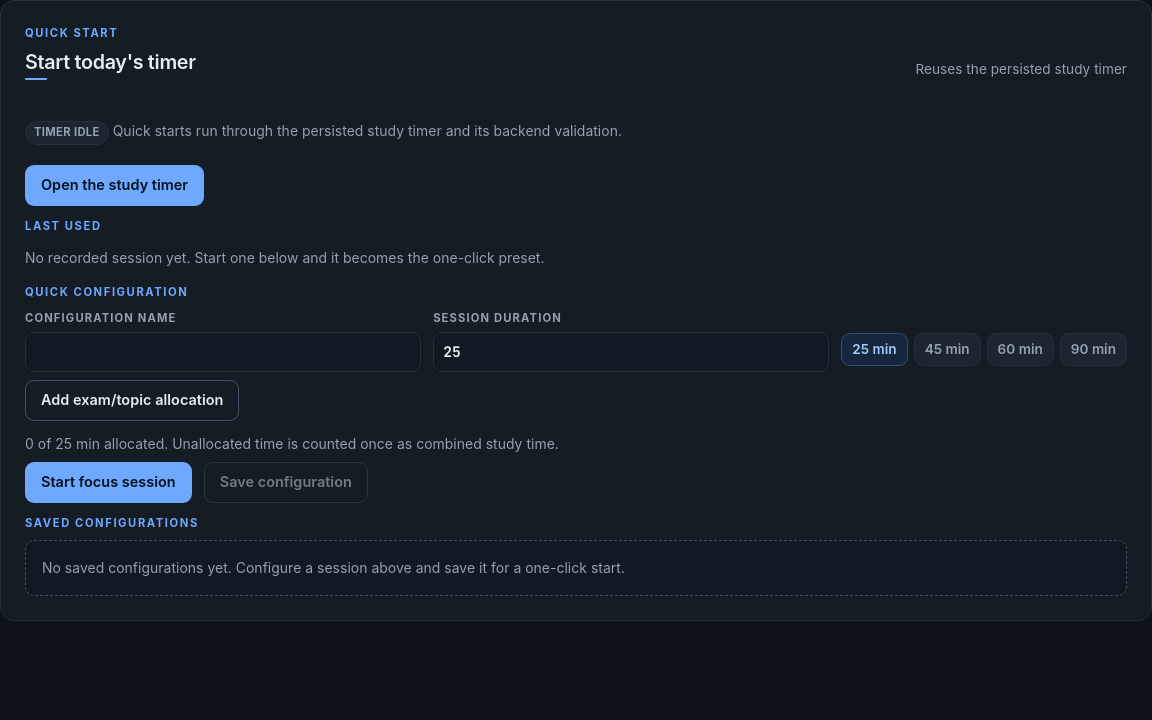
Test: QuickStartSection › rejects invalid builder allocations before any backend command runs
Check: the text "Timer idle" is shown, box [25,121,109,145]
Click the button "Add exam/topic allocation": click(132, 400) [25,380,239,421]
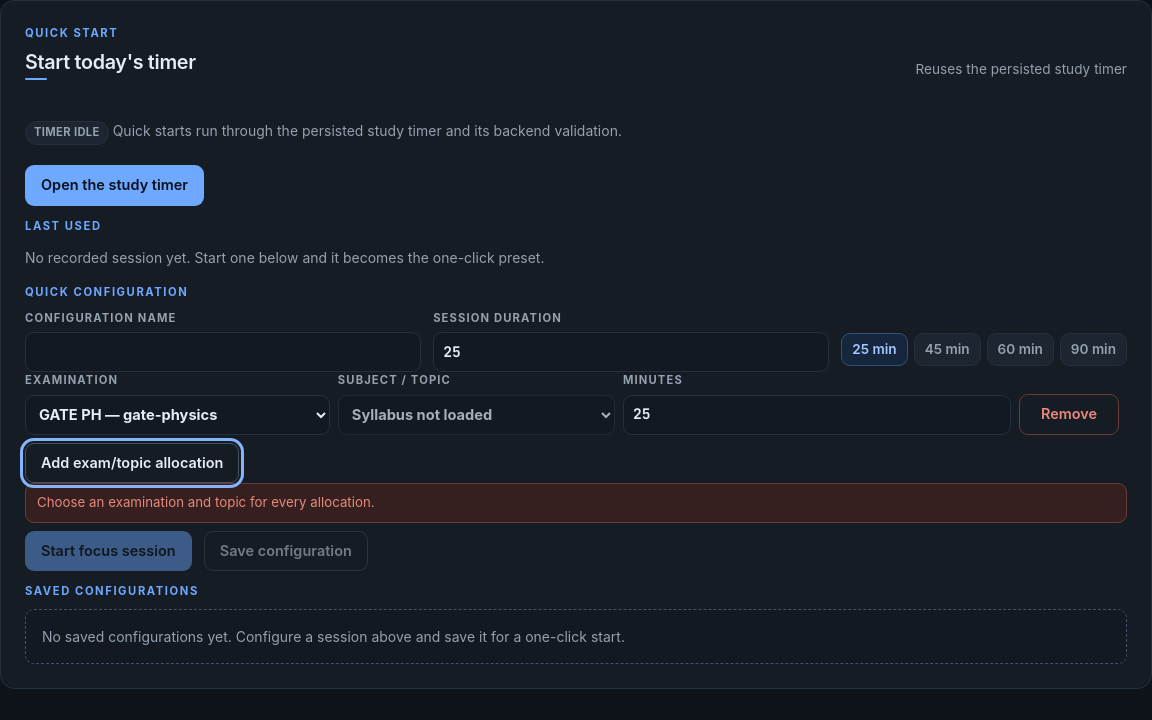
Check: the text "Choose an examination and topic for every allocation." is shown, box [25,483,1127,523]
Check: the button "Start focus session" is disabled, box [25,531,192,571]
